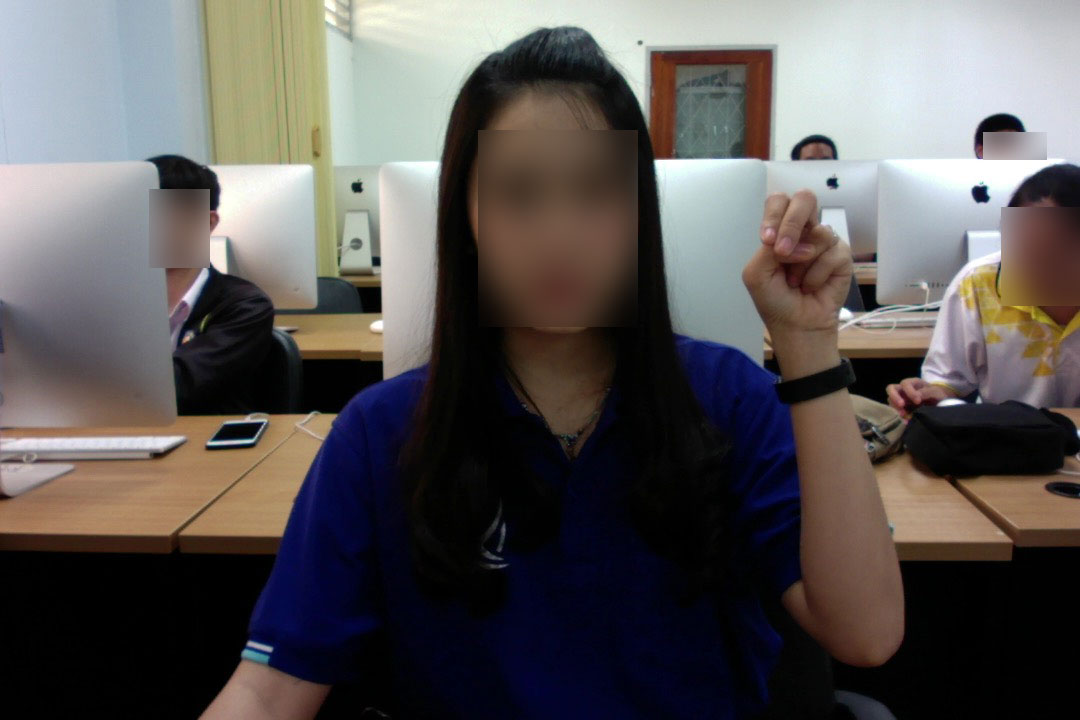nor: (738, 185, 860, 351)
